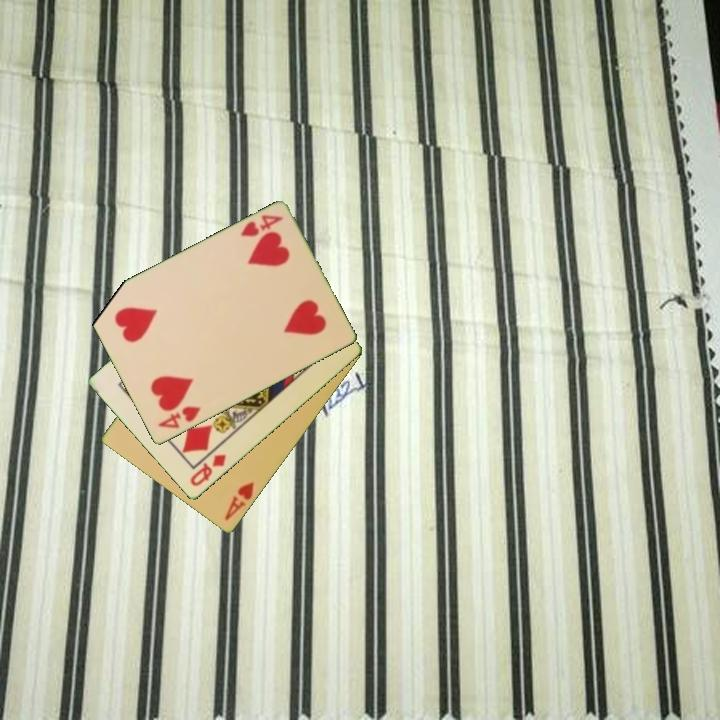4h: (154, 403, 204, 432), (236, 212, 286, 240)
Ah: (221, 479, 257, 524)
Qd: (186, 451, 229, 490)
